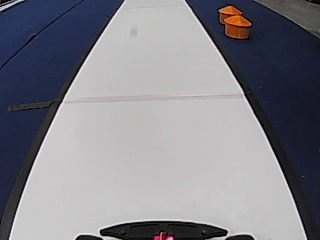granary: (222, 12, 252, 40), (217, 6, 242, 25)
